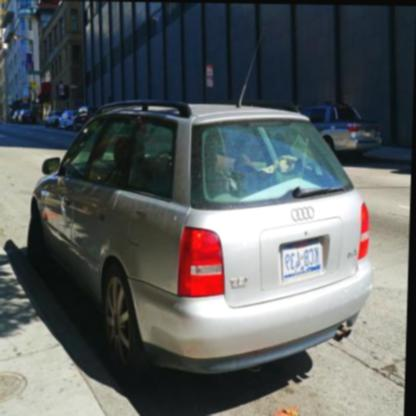License_Plate: (280, 235, 324, 281)
